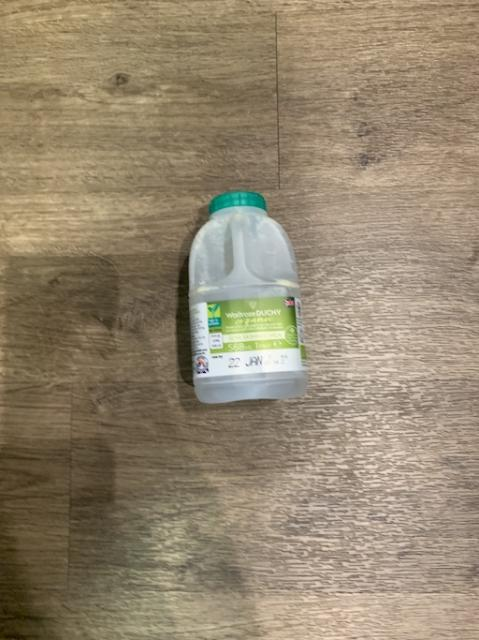plastic: (188, 190, 305, 401)
